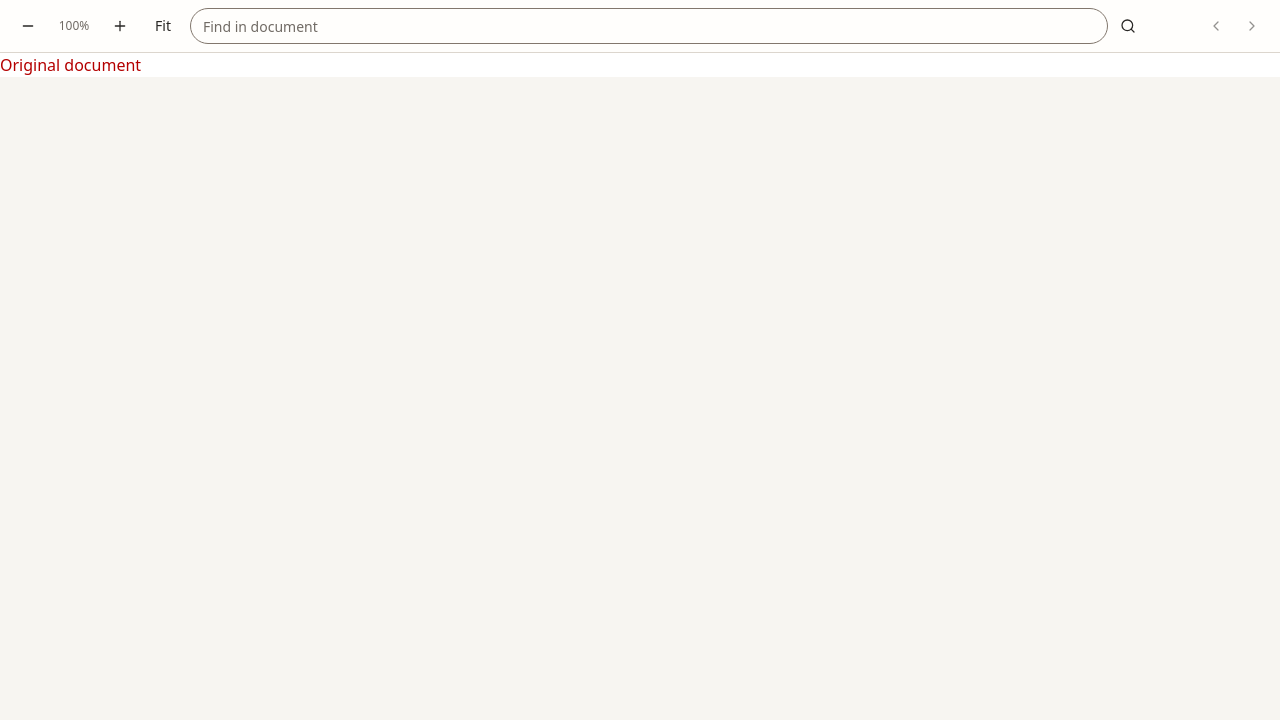
it: NativeDocument controls › keeps the document open when a toolbar operation fails
Click the button named "Zoom in document". click: (120, 26)
box: 104,10 -> 136,42
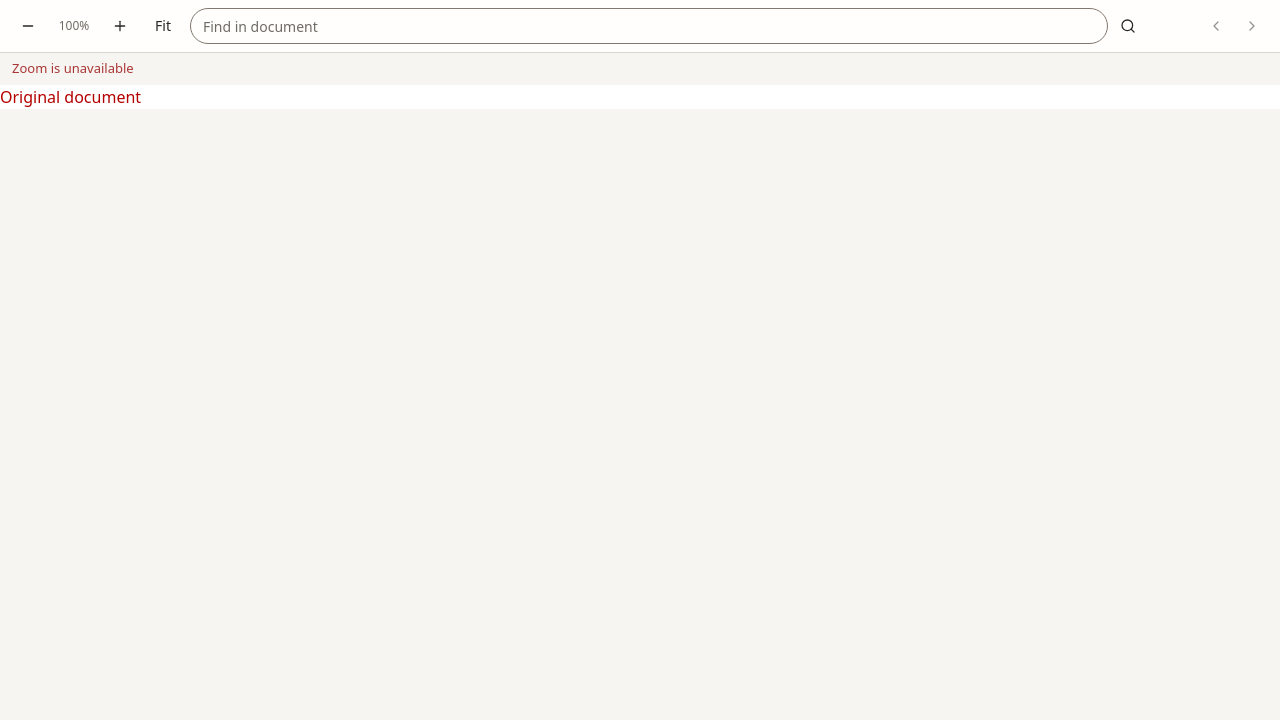
Now the message reads "Zoom is unavailable", box 12,59 -> 134,77
